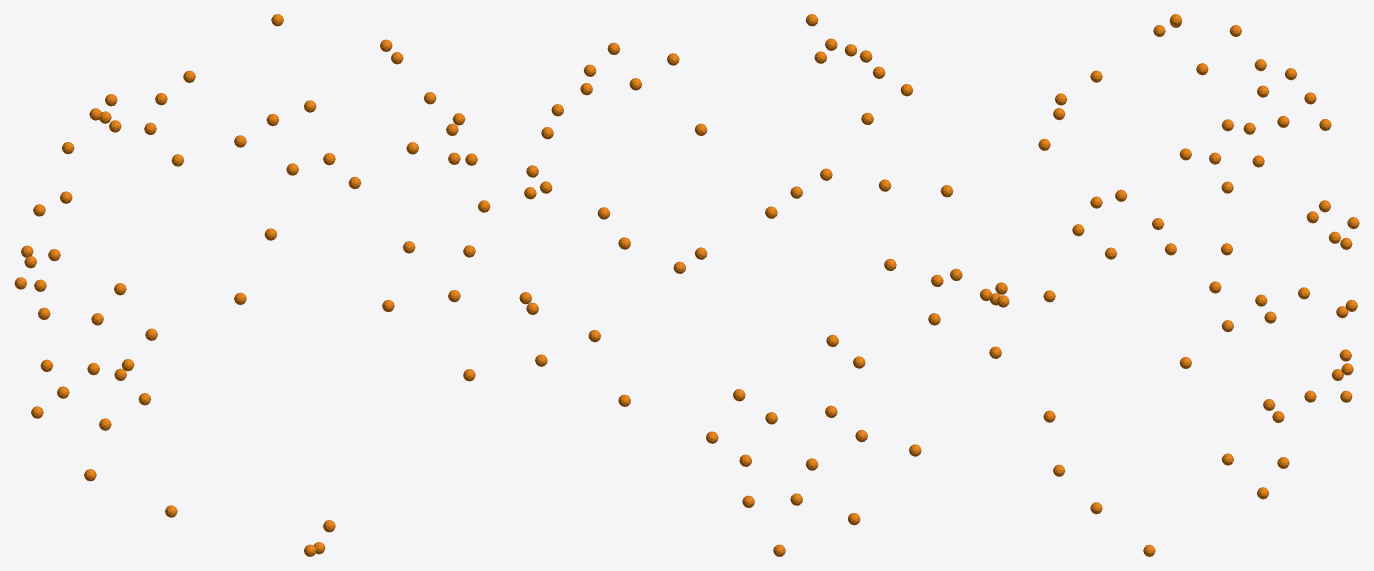
File: citrus_plain_a_fruit.obj
3 views of the same model, side by side, from view 1: azimuth 30°, elevation 25°; view 2: azimuth 150°, elevation 25°; view 3: azimuth 270°, elevation 25° (orthographic). The views are drawn at different scales.
Visible parts, largest first — view 1: fruit; view 2: fruit; view 3: fruit.
Part boxes in pixels (x1,y1,x2,y2): fruit: (14,14,490,556); fruit: (519,14,1009,556); fruit: (1038,14,1359,556).
Size of the model in its own units: 3.11 by 3.3 by 1.98.
